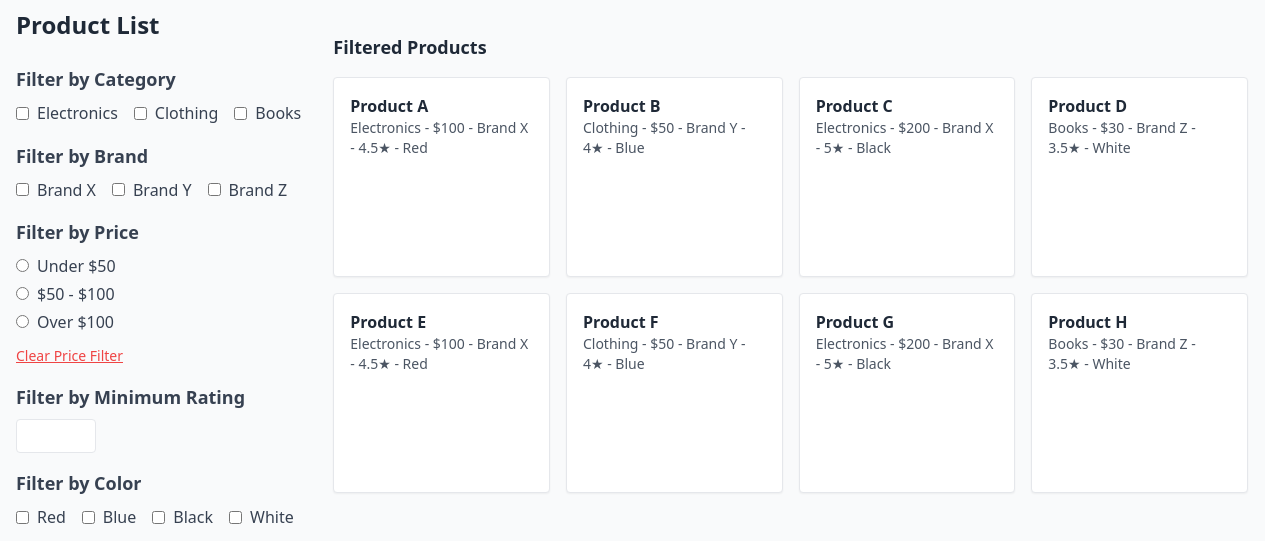
Test: Product Filter › should filter by category correctly
The image size is (1265, 541).
Click the checkbox labelled "Electronics" at (22, 113), box [16,106,29,120]
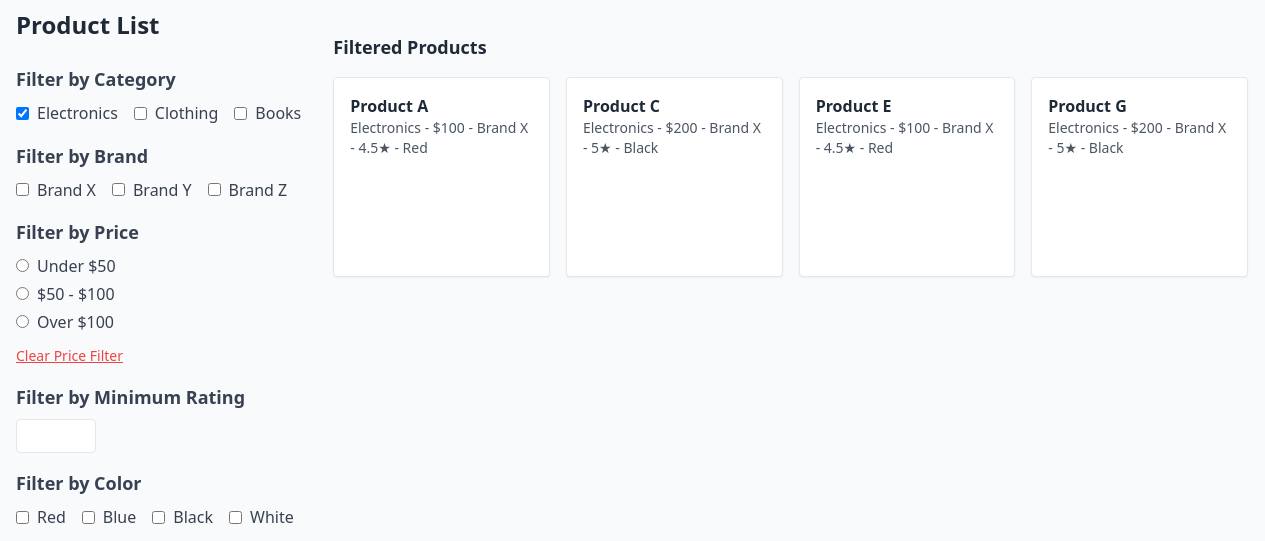
expect the text "Product A" is shown: met, box [350,95,428,117]
expect the text "Product B" is gone: met
expect the text "Product D" is gone: met
